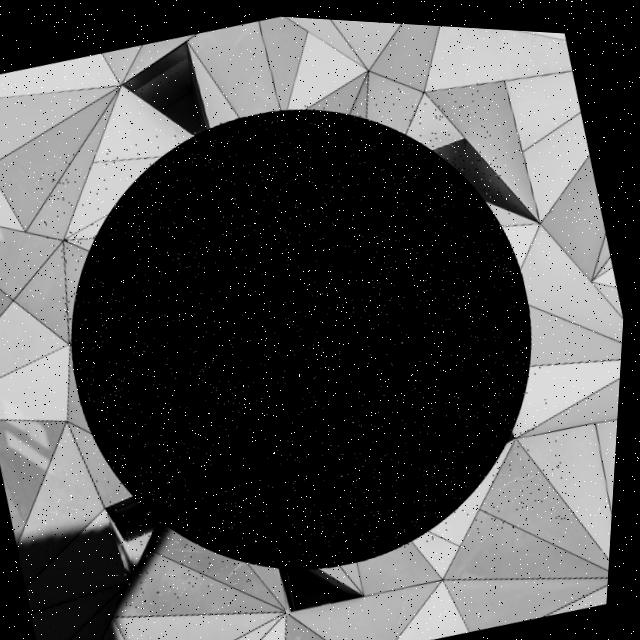CIRCLE: (75, 105, 534, 564)
